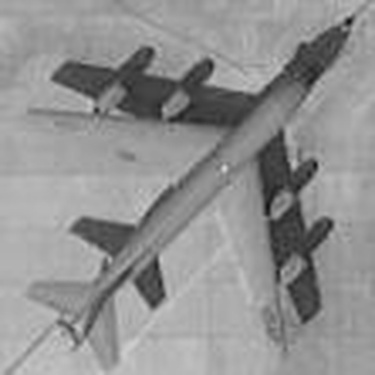airplane: (15, 5, 365, 363)
